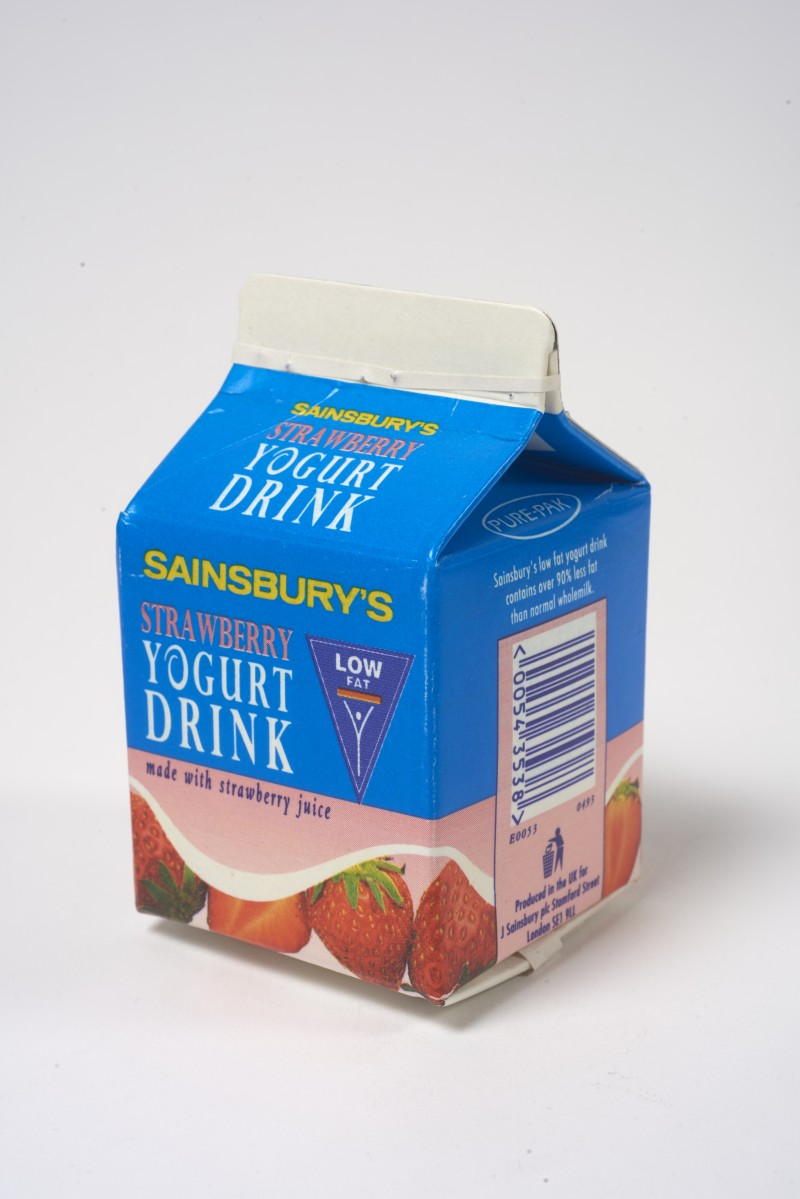carton: (80, 150, 704, 1047)
